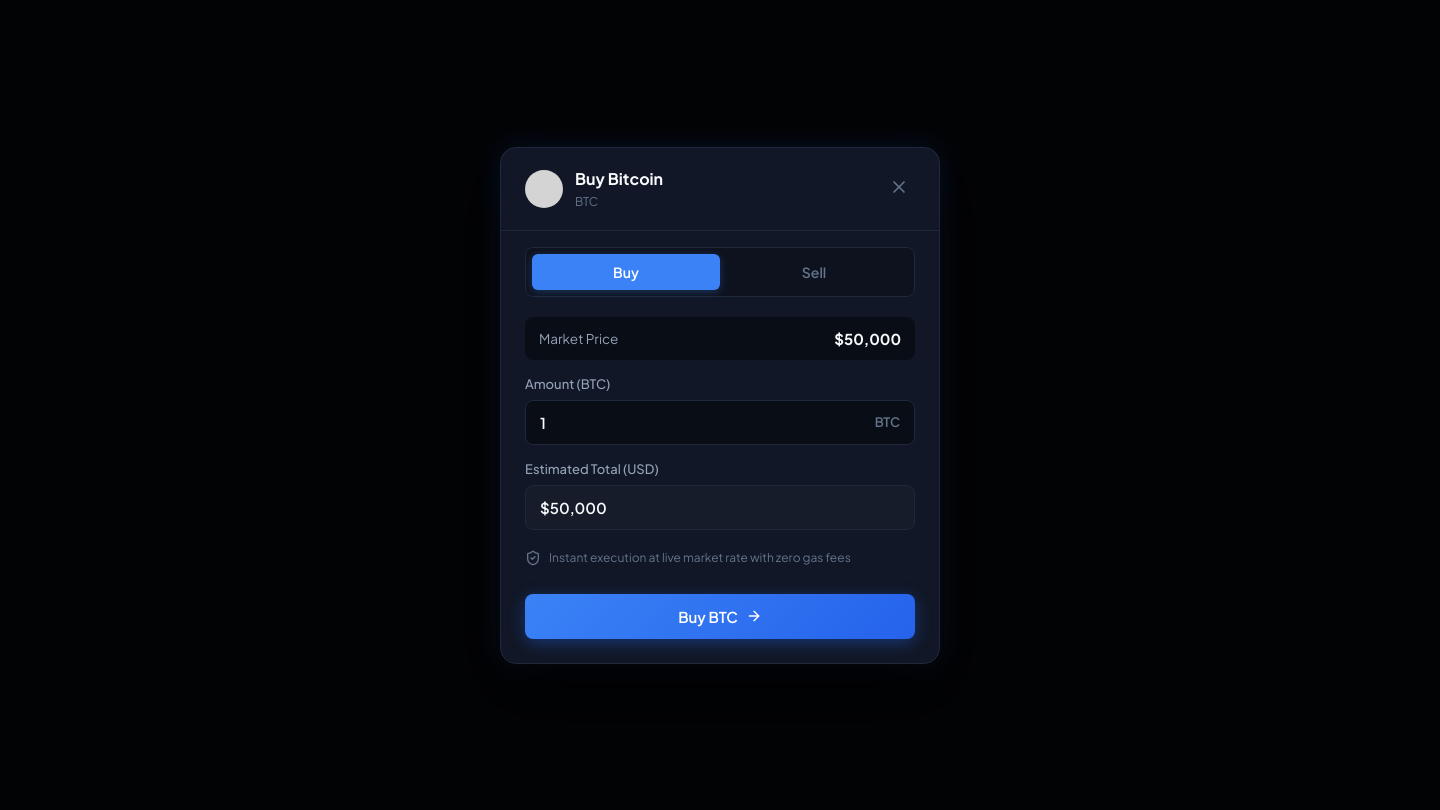
TradeModal Component › allows toggling between Buy and Sell tabs
Click the button "Sell": (814, 272) left=720, top=254, right=908, bottom=290
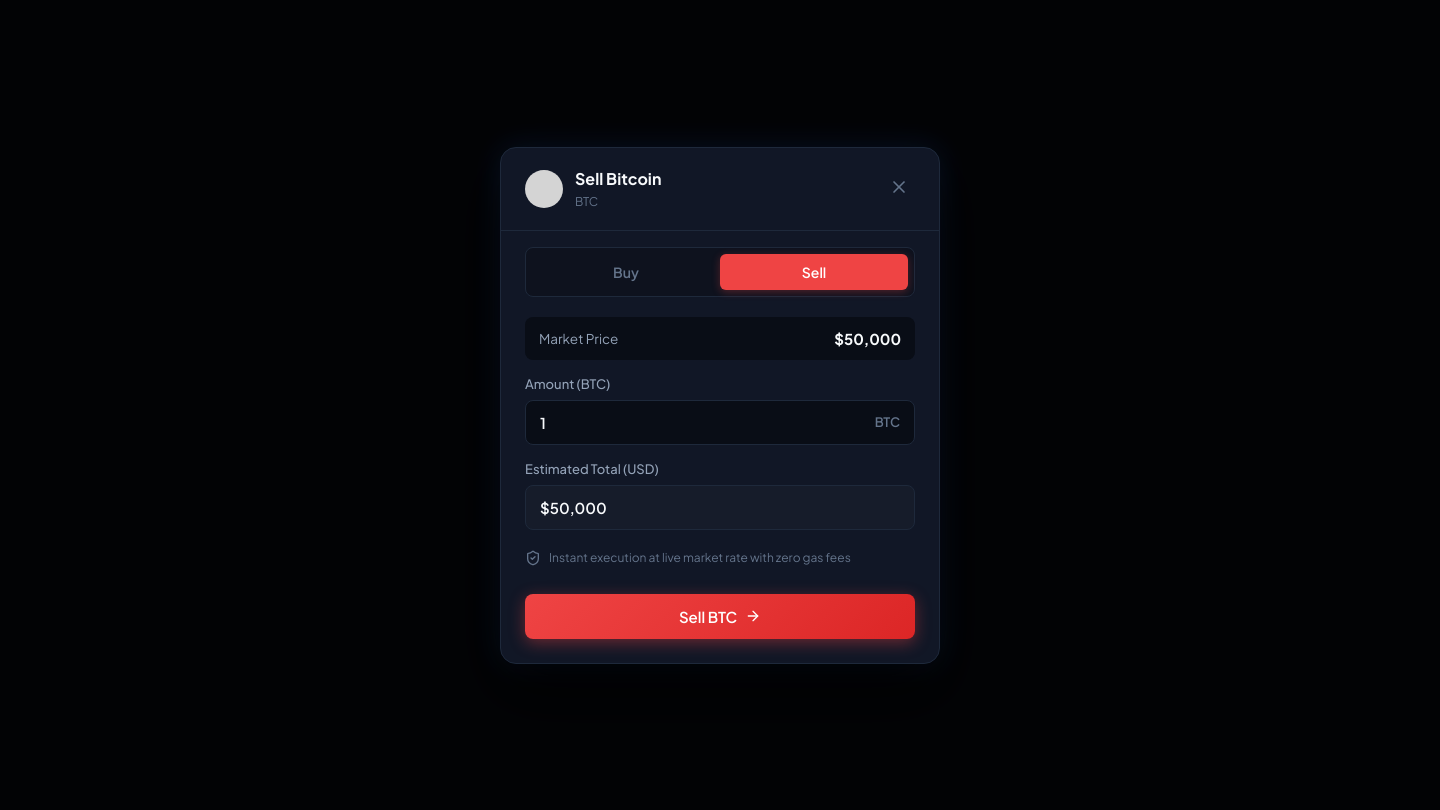
Check: the heading "Sell Bitcoin" is shown, box left=575, top=168, right=661, bottom=188
